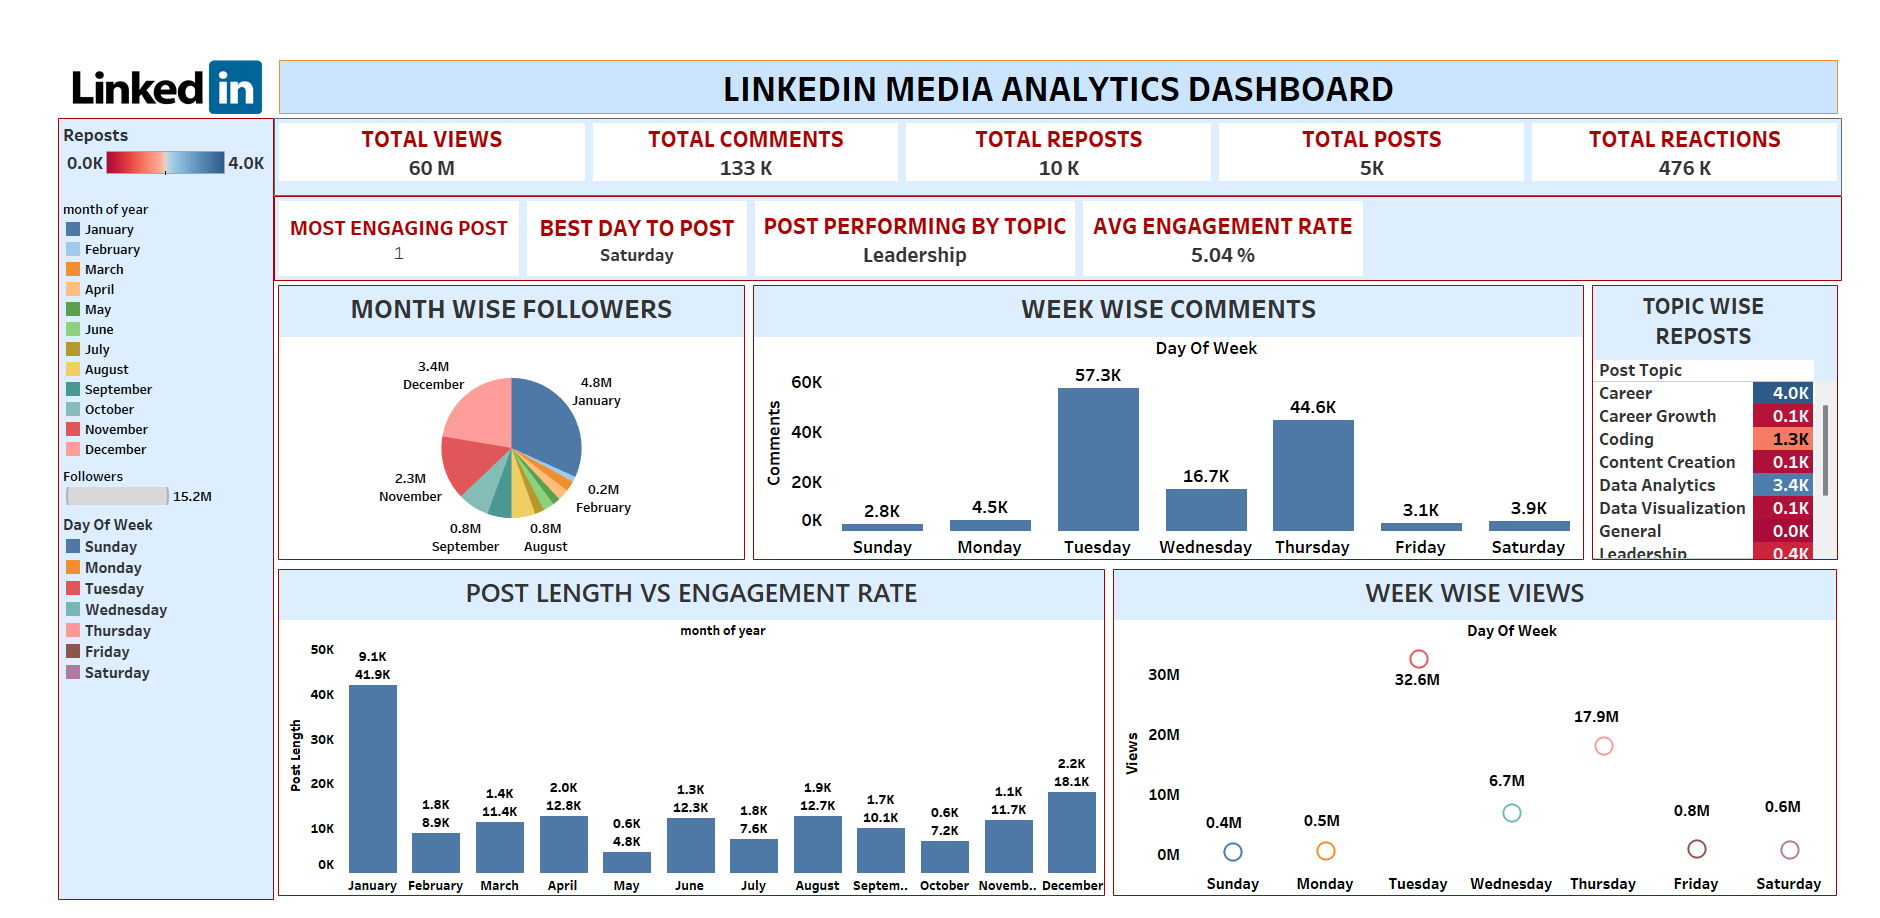

The page's visual inventory and layout, read from the dashboard file:
{"tool":"powerbi","page":{"name":"LINKEDIN","canvas":[1280,720],"ordinal":2},"visuals":[{"type":"shape","box":[32.6,145.1,80.9,229.8],"z":0},{"type":"shape","box":[33,295.8,80.9,78.7],"z":1000},{"type":"card","title":"Total Followers","fields":{"Values":["Sum(Linkdin.Followers)"]},"box":[164.7,190.7,173,67.9],"z":2000},{"type":"card","title":"Total Views","fields":{"Values":["Sum(Linkdin.Views)"]},"box":[164.7,107,173,70.7],"z":3000},{"type":"card","title":"Total Comments","fields":{"Values":["Sum(Linkdin.Comments)"]},"box":[367.4,107,171.2,71.6],"z":4000},{"type":"card","title":"Total Reposts","fields":{"Values":["Sum(Linkdin.Reposts)"]},"box":[575.8,107,203.7,70.7],"z":5000},{"type":"card","title":"Total Reactions","fields":{"Values":["Sum(Linkdin.Reactions)"]},"box":[821.4,107.5,179.8,73.4],"z":6000},{"type":"card","title":"Average Engagement Rate %","fields":{"Values":["Avg(Linkdin.Engagement Rate)"]},"box":[404.2,188.8,266.6,74],"z":7000},{"type":"card","title":"Total Post","fields":{"Values":["CountNonNull(Linkdin.PostDate)"]},"box":[1026.8,107.5,171.3,67],"z":8000},{"type":"columnChart","title":"Weekwise Comments","fields":{"Category":["Linkdin.Day Of Week"],"Y":["Sum(Linkdin.Comments)"]},"box":[164.1,271.1,554.2,206.6],"z":9000},{"type":"barChart","title":"Topicwise Reposts","fields":{"Category":["Linkdin.PostTopic"],"Y":["Sum(Linkdin.Reposts)"]},"box":[740.5,193.7,466.6,284],"z":10000},{"type":"lineChart","title":"post lenght vs Engagement rate","fields":{"Category":["Linkdin.PostDate.Variation.Date Hierarchy.Year"],"Y":["Sum(Linkdin.PostLength)","Sum(Linkdin.Engagement Rate)"]},"box":[740.5,482,467.1,222.4],"z":11000},{"type":"tableEx","title":"Impression Yearwise","fields":{"Values":["Linkdin.PostDate.Variation.Date Hierarchy.Month","Sum(Linkdin.Followers)","Sum(Linkdin.Views)","Sum(Linkdin.Reactions)","Sum(Linkdin.Comments)"]},"box":[163.9,485.2,554.3,216],"z":12000},{"type":"slicer","fields":{"Values":["Linkdin.PostDate.Variation.Date Hierarchy.Month"]},"box":[524.8,16,179.6,68.8],"z":13000},{"type":"slicer","fields":{"Values":["Linkdin.Day Of Week"]},"box":[731.3,13,179.6,68.8],"z":14000},{"type":"image","box":[49.3,310.7,48.4,47.4],"z":15000},{"type":"image","box":[40.9,155.3,64.2,59.5],"z":16000},{"type":"textbox","box":[32.9,16,452.9,67.8],"z":17000},{"type":"image","box":[1141.5,22.5,64.2,49.5],"z":18000},{"type":"slicer","fields":{"Values":["Linkdin.PostTopic"]},"box":[933.3,13.5,188,68.7],"z":19000},{"type":"slicer","fields":{"Values":["Linkdin.PostDate.Variation.Date Hierarchy.Quarter"]},"box":[19.1,544.9,109.2,156.5],"z":20000},{"type":"slicer","fields":{"Values":["Linkdin.PostDate.Variation.Date Hierarchy.Year"]},"box":[19.2,399,109.6,136.2],"z":21000},{"type":"image","box":[34,236.2,77.7,53.2],"z":22000},{"type":"image","box":[151.2,21.2,48.9,47],"z":23000}]}

Visuals, with their boxes on the page's 1280x720 design canvas (x1, y1, x2, y2). These are canvas units, not pixel positions in the 1880x918 screenshot, which may show the page scaled, cropped or inside an application window:
shape: Rect(33, 145, 114, 375)
shape: Rect(33, 296, 114, 374)
"Total Followers" card: Rect(165, 191, 338, 259)
"Total Views" card: Rect(165, 107, 338, 178)
"Total Comments" card: Rect(367, 107, 539, 179)
"Total Reposts" card: Rect(576, 107, 780, 178)
"Total Reactions" card: Rect(821, 108, 1001, 181)
"Average Engagement Rate %" card: Rect(404, 189, 671, 263)
"Total Post" card: Rect(1027, 108, 1198, 174)
"Weekwise Comments" columnChart: Rect(164, 271, 718, 478)
"Topicwise Reposts" barChart: Rect(740, 194, 1207, 478)
"post lenght vs Engagement rate" lineChart: Rect(740, 482, 1208, 704)
"Impression Yearwise" tableEx: Rect(164, 485, 718, 701)
slicer - Linkdin.PostDate.Variation.Date Hierarchy.Month: Rect(525, 16, 704, 85)
slicer - Linkdin.Day Of Week: Rect(731, 13, 911, 82)
image: Rect(49, 311, 98, 358)
image: Rect(41, 155, 105, 215)
textbox: Rect(33, 16, 486, 84)
image: Rect(1142, 22, 1206, 72)
slicer - Linkdin.PostTopic: Rect(933, 14, 1121, 82)
slicer - Linkdin.PostDate.Variation.Date Hierarchy.Quarter: Rect(19, 545, 128, 701)
slicer - Linkdin.PostDate.Variation.Date Hierarchy.Year: Rect(19, 399, 129, 535)
image: Rect(34, 236, 112, 289)
image: Rect(151, 21, 200, 68)
